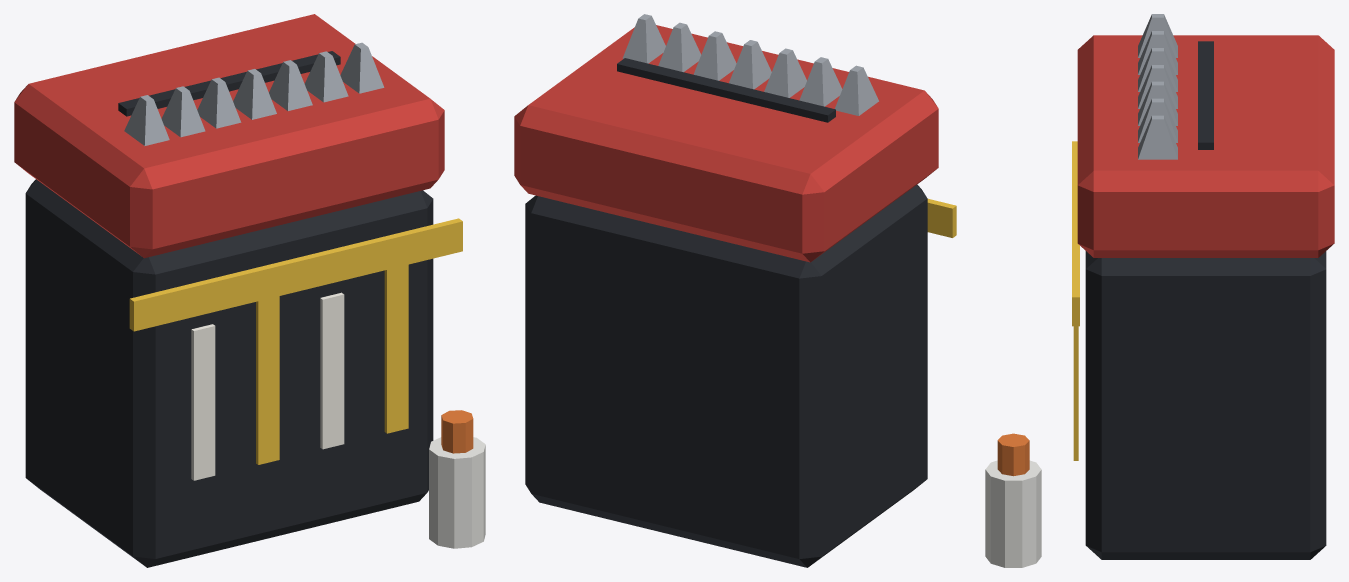
The model's file is shredder_p0_3.glb.
3 renders of one model, left to right at view 1: azimuth 30°, elevation 25°; view 2: azimuth 150°, elevation 25°; view 3: azimuth 270°, elevation 25°, orthographic. The views are drawn at different scales.
Visible parts, largest first — view 1: shredder_p0_3_mesh; view 2: shredder_p0_3_mesh; view 3: shredder_p0_3_mesh.
Part boxes in pixels (box(x1,y1,x2,y2)): shredder_p0_3_mesh: box(14, 14, 485, 567); shredder_p0_3_mesh: box(514, 14, 956, 567); shredder_p0_3_mesh: box(985, 14, 1334, 567).
Size of the model in its own units: 0.46 by 0.59 by 0.435.
